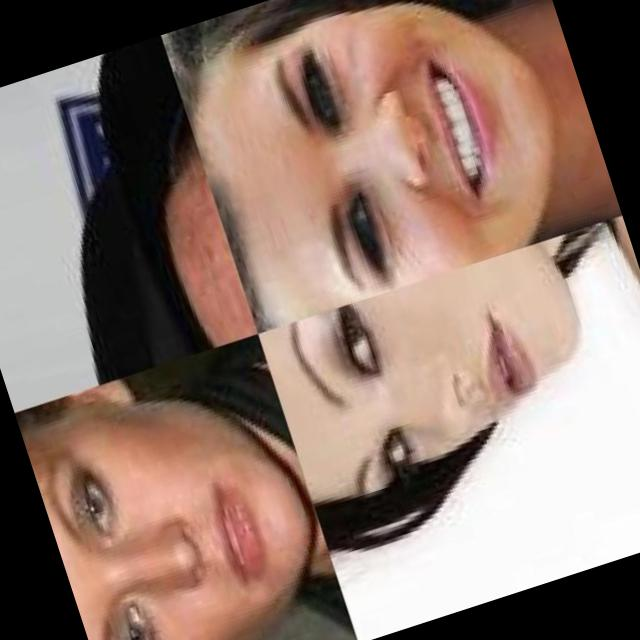bareface: (177, 0, 557, 335)
